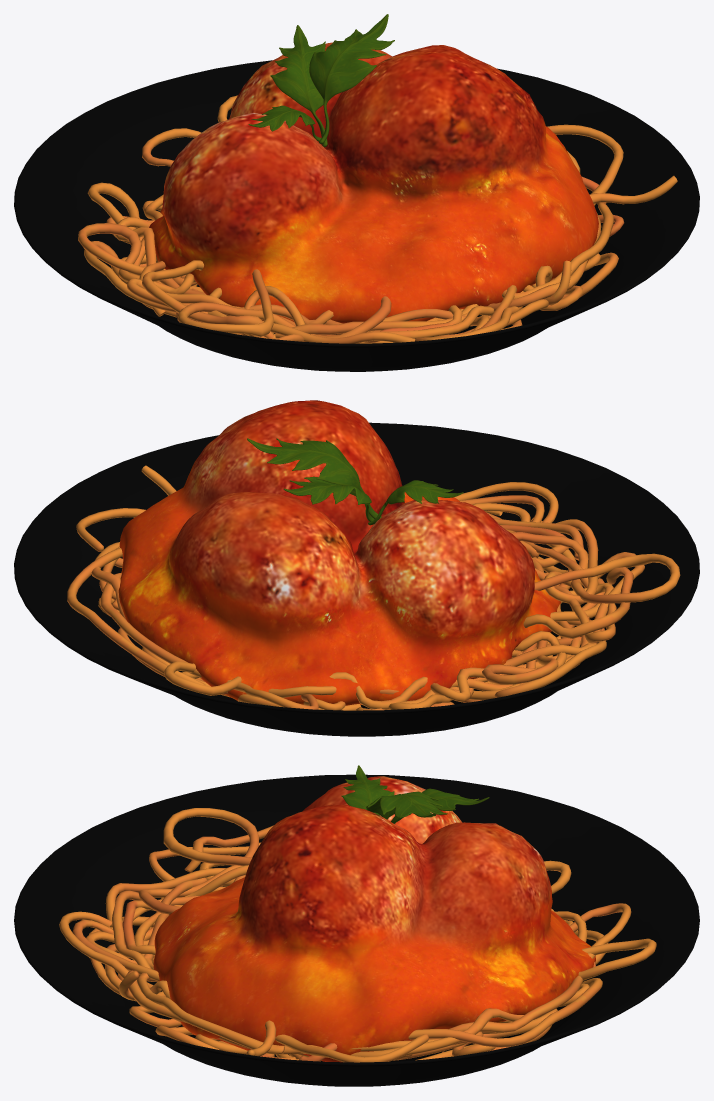
File: Pasta.fbx
The picture shows the model from 3 angles, top to bottom: view 1: azimuth 30°, elevation 25°; view 2: azimuth 150°, elevation 25°; view 3: azimuth 270°, elevation 25°; orthographic projection.
Parts seen in each view (by area): view 1: Pasta, Plate; view 2: Pasta, Plate; view 3: Pasta, Plate.
Part boxes in pixels (box(x1,y1,x2,y2)): Pasta: box(78, 14, 677, 343); Plate: box(14, 60, 699, 371); Pasta: box(67, 400, 680, 710); Plate: box(14, 422, 699, 736); Pasta: box(59, 765, 656, 1062); Plate: box(14, 774, 699, 1086).
Bounding box in the file's own units: 148 × 50.6 × 148.
Materials: 2 (1 with a texture image).
